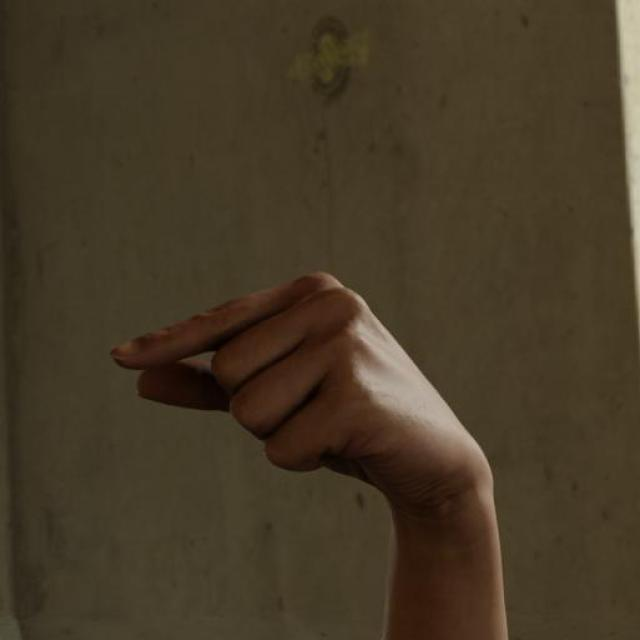G: (107, 267, 493, 505)
